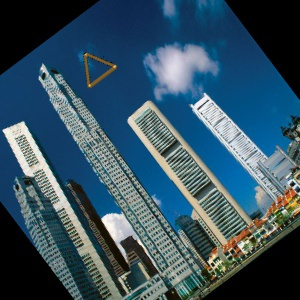triangle: (81, 51, 119, 88)
